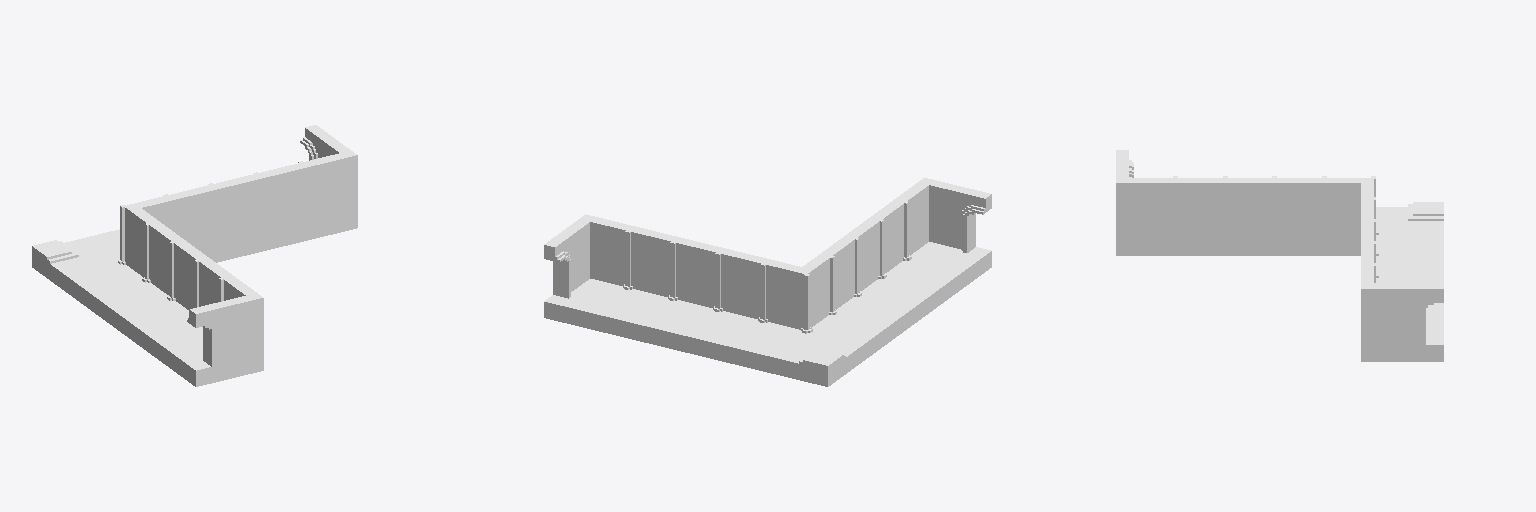
File: CrossRoom-2.obj
3 views of the same model, side by side, from view 1: azimuth 30°, elevation 25°; view 2: azimuth 150°, elevation 25°; view 3: azimuth 270°, elevation 25° (orthographic).
Parts seen in each view (by area): view 1: object 1; view 2: object 1; view 3: object 1.
Boxes of the visible parts, x1,y1,x2,y2 form: object 1: [32, 125, 357, 386]; object 1: [544, 178, 991, 386]; object 1: [1116, 150, 1443, 361].
Bounding box in the file's own units: 12.6 × 3.1 × 12.6.